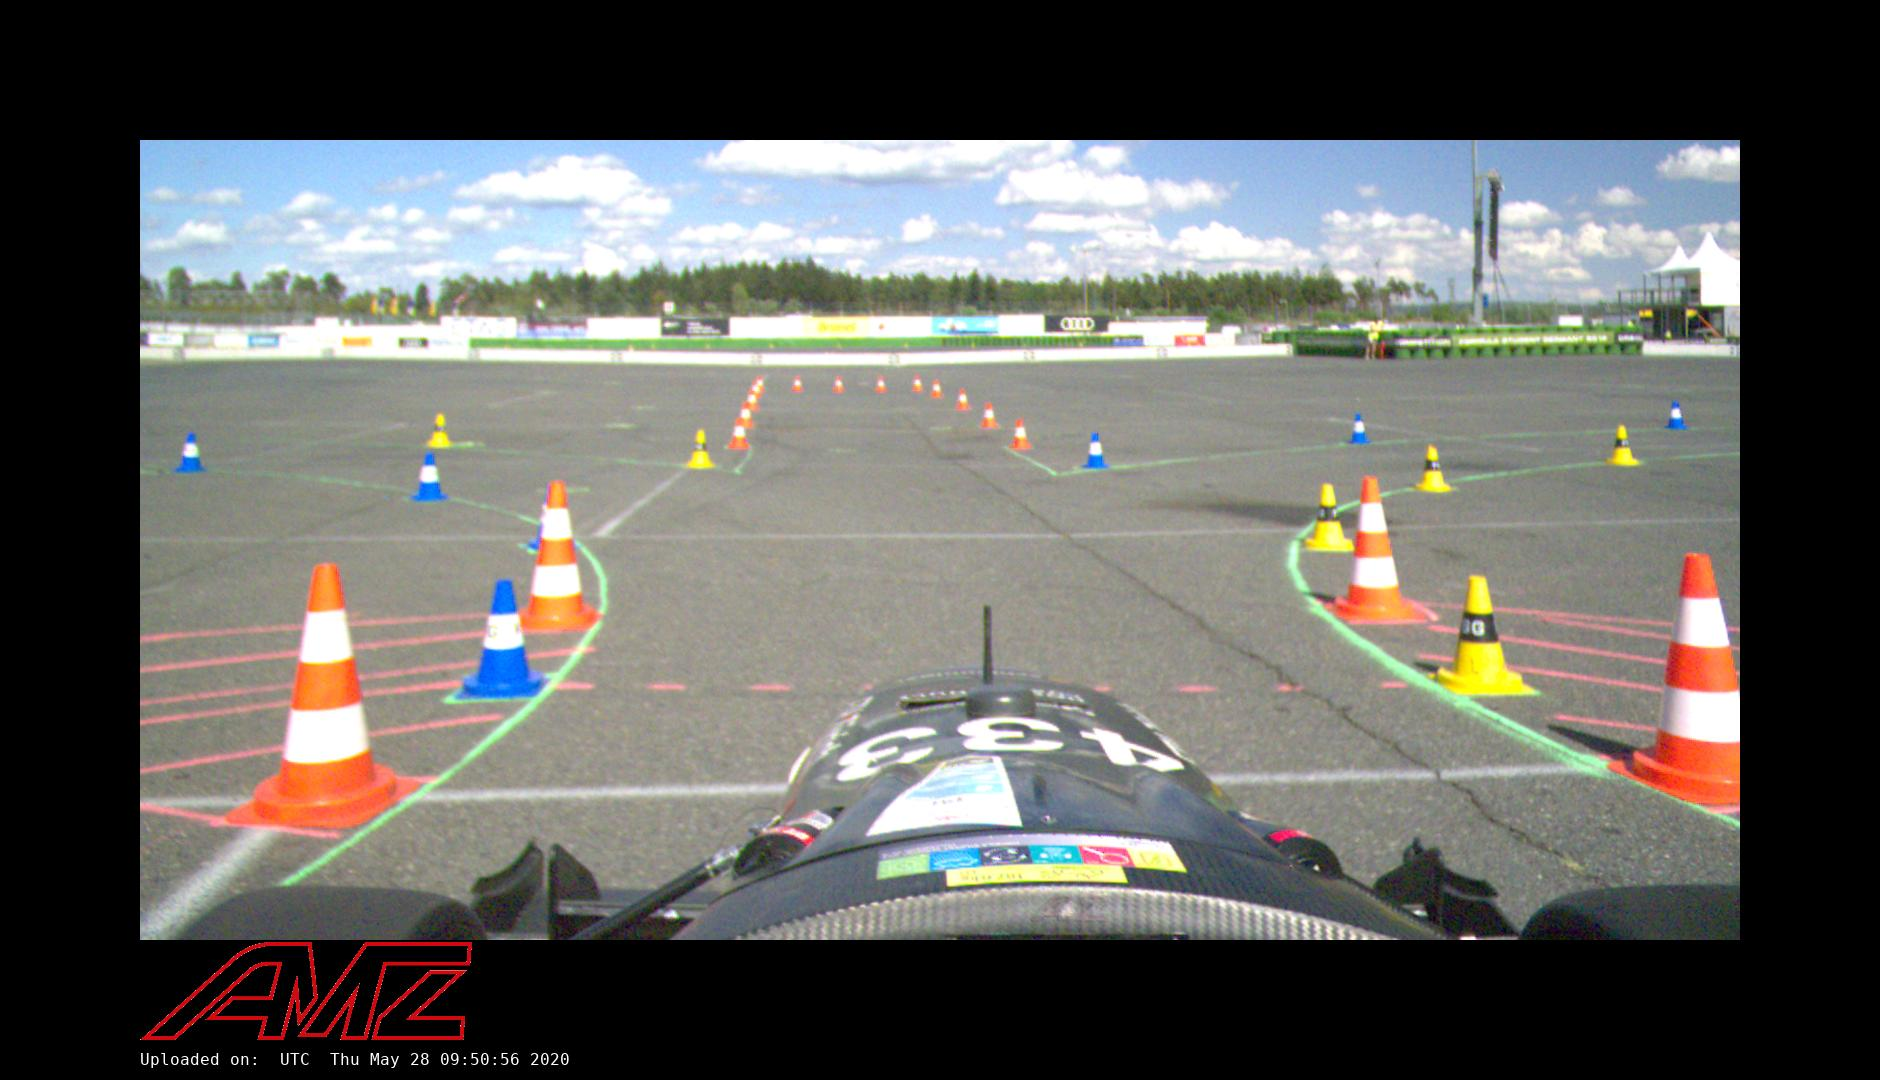blue_cone: (455, 581, 545, 701), (409, 452, 448, 503), (170, 428, 203, 472), (1079, 428, 1107, 469), (1349, 410, 1374, 444), (1664, 400, 1690, 429)
large_orange_cone: (226, 559, 420, 824), (1617, 556, 1739, 800), (504, 481, 602, 634), (1321, 472, 1425, 614)
orange_cone: (1010, 412, 1029, 451), (728, 417, 749, 452), (981, 402, 998, 428), (954, 386, 968, 411), (872, 373, 887, 393), (832, 373, 844, 393), (910, 372, 923, 391), (931, 379, 943, 398), (792, 375, 804, 391)
yellow_cone: (1437, 570, 1529, 694), (1305, 478, 1352, 554), (1415, 442, 1450, 492), (683, 426, 714, 468), (1610, 424, 1640, 465), (426, 410, 451, 450)
